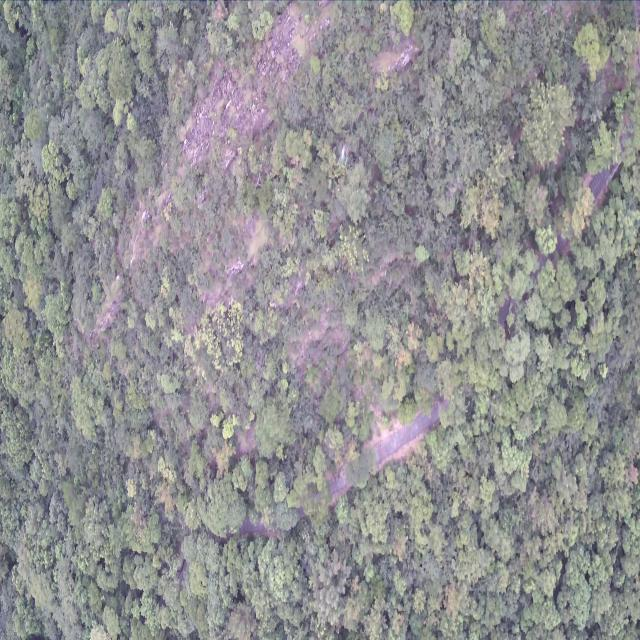drone: (336, 144, 349, 165)
